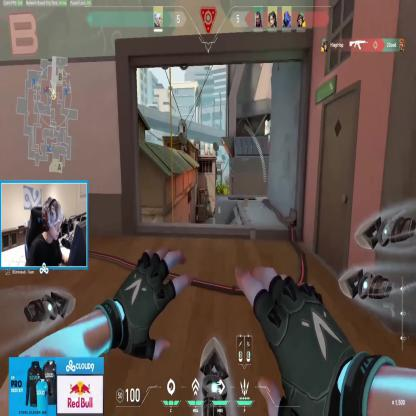enemy: (212, 203, 215, 218)
enemy_head: (214, 203, 216, 207)
